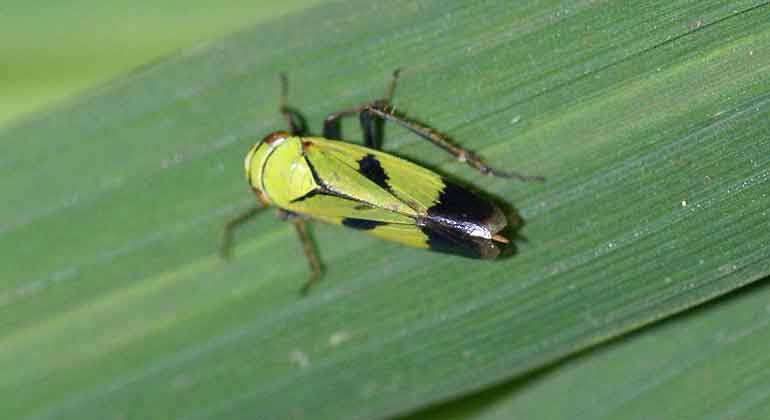Brown_plant_leafhopper: (242, 126, 518, 271)
